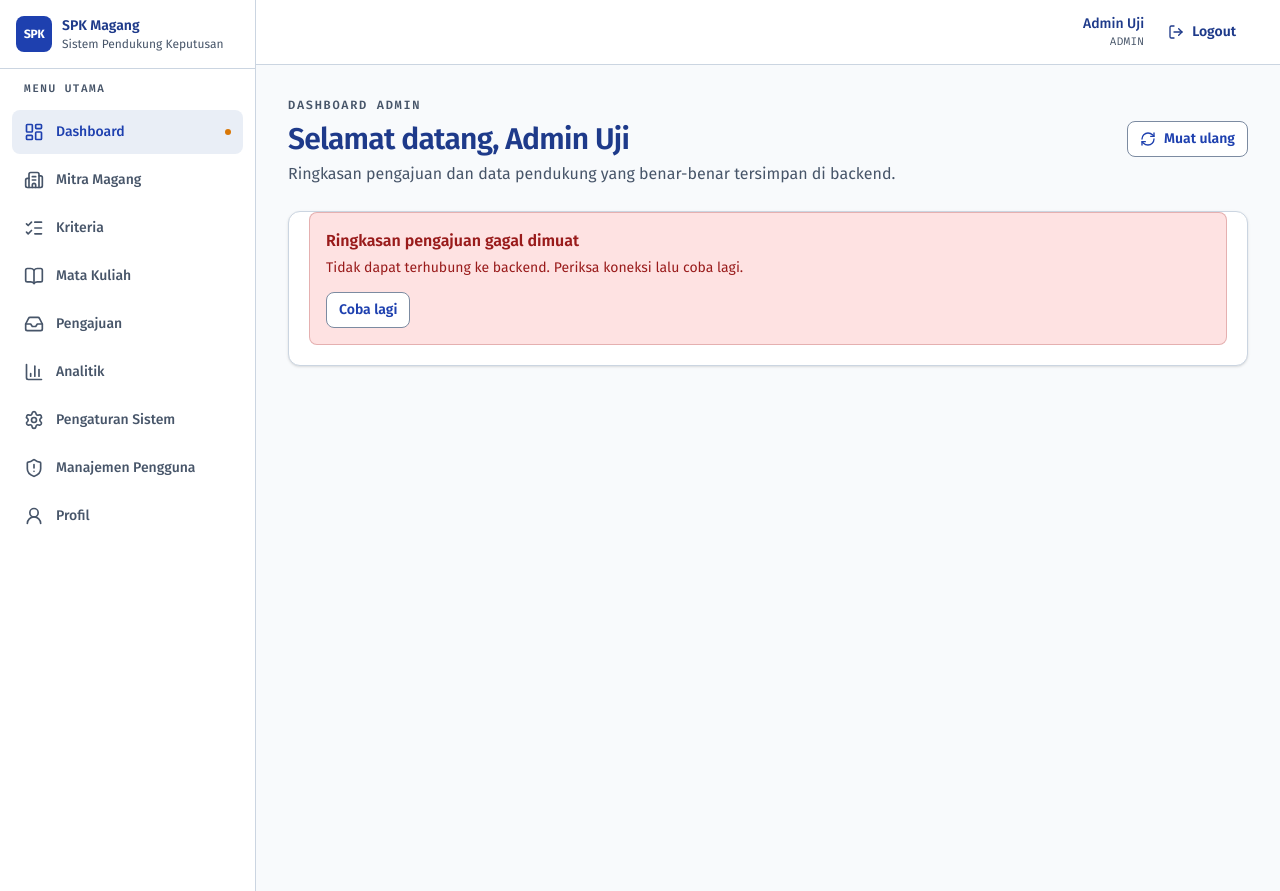
Test: AdminDashboardPage › dapat memuat ulang ringkasan pengajuan setelah gagal
The image size is (1280, 891).
Expected: the text "Ringkasan pengajuan gagal dimuat" is shown, left=326, top=231, right=579, bottom=250
Click the button "Coba lagi" at coordinates (368, 310), box left=326, top=292, right=410, bottom=328
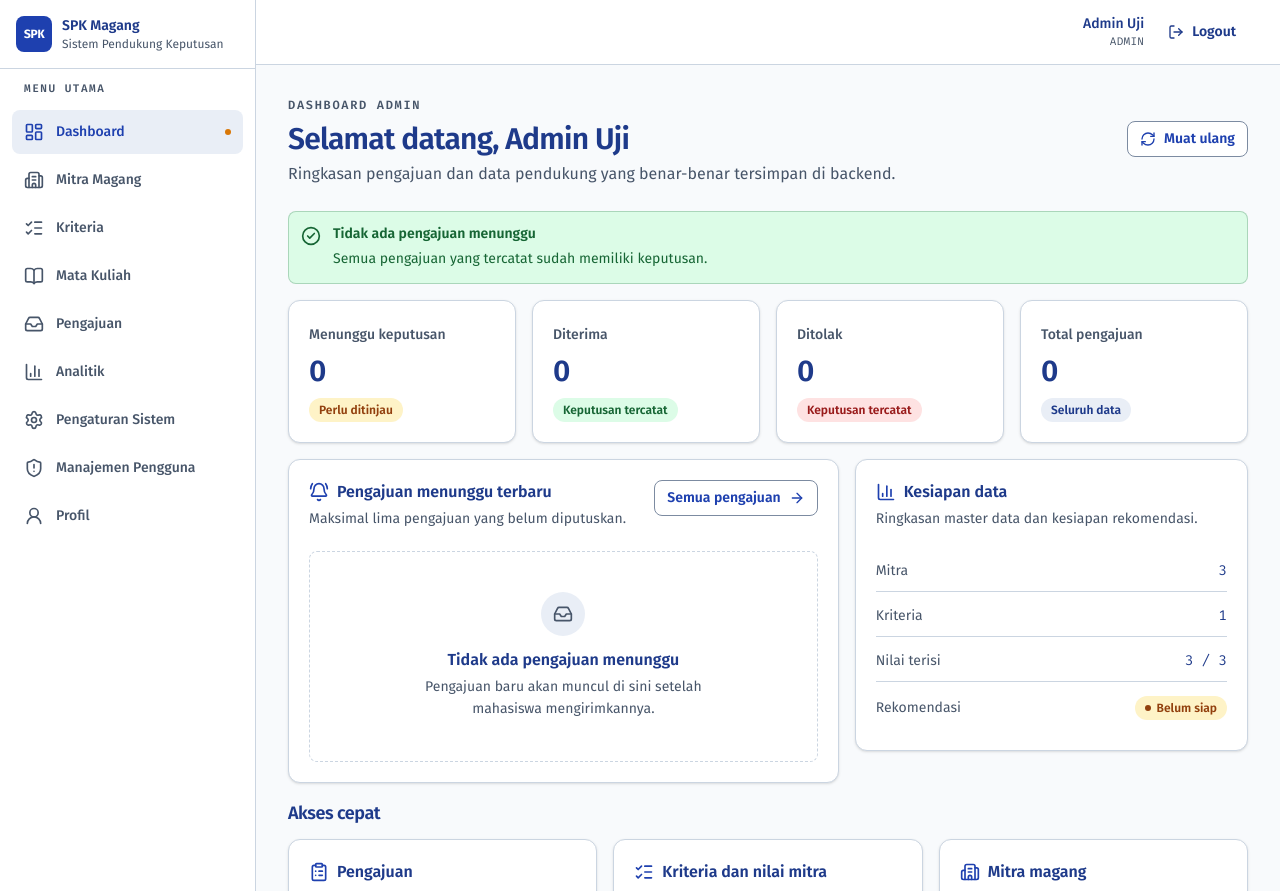
Now the text "Semua pengajuan yang tercatat sudah memiliki keputusan." is shown, box left=333, top=248, right=707, bottom=271
